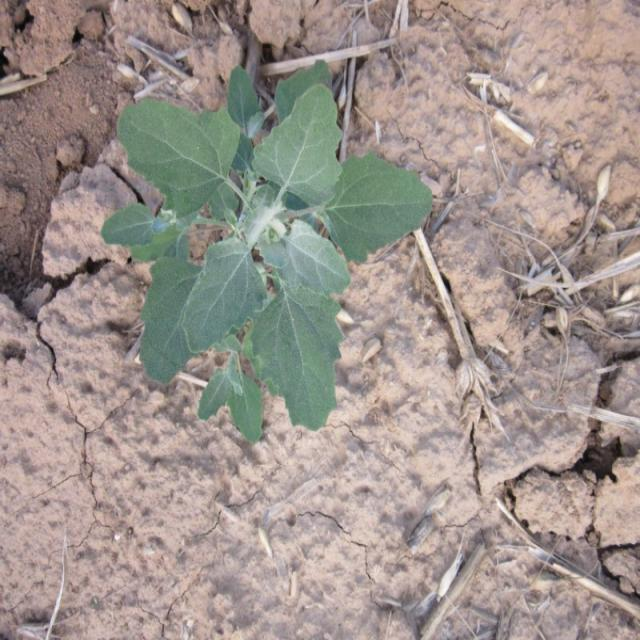ca: (112, 70, 431, 444)
